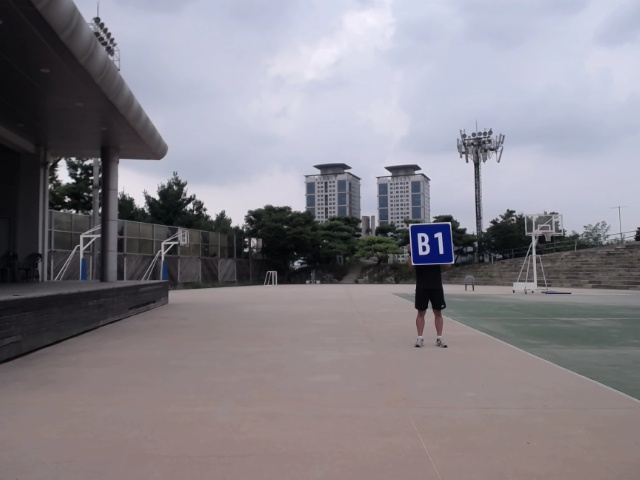delivery_b1: (409, 223, 454, 265)
